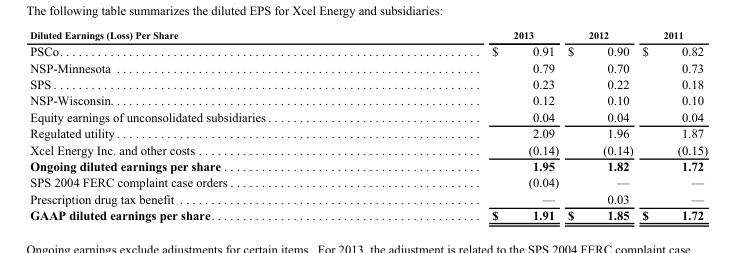table: (29, 28, 707, 222)
table column: (29, 28, 378, 222), (378, 28, 562, 222), (562, 28, 637, 222), (637, 28, 707, 222)
table column header: (29, 28, 707, 41)
table row: (29, 41, 707, 59), (29, 91, 707, 108), (29, 124, 707, 141), (29, 173, 707, 190), (29, 59, 707, 75), (29, 75, 707, 91), (29, 108, 707, 124), (29, 141, 707, 157), (29, 157, 707, 173), (29, 190, 707, 206), (29, 206, 707, 222), (29, 28, 707, 41)
